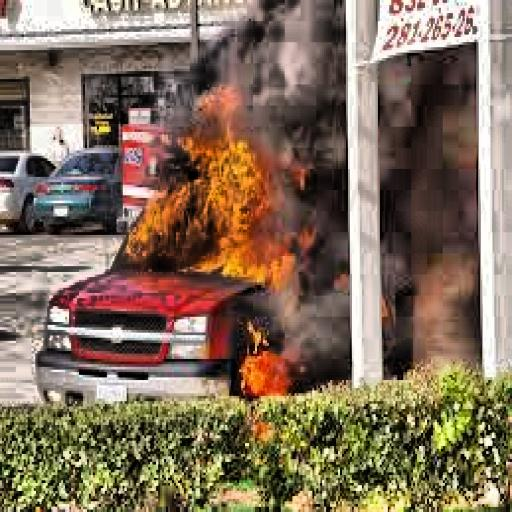fire: (131, 87, 324, 282), (228, 306, 306, 401)
